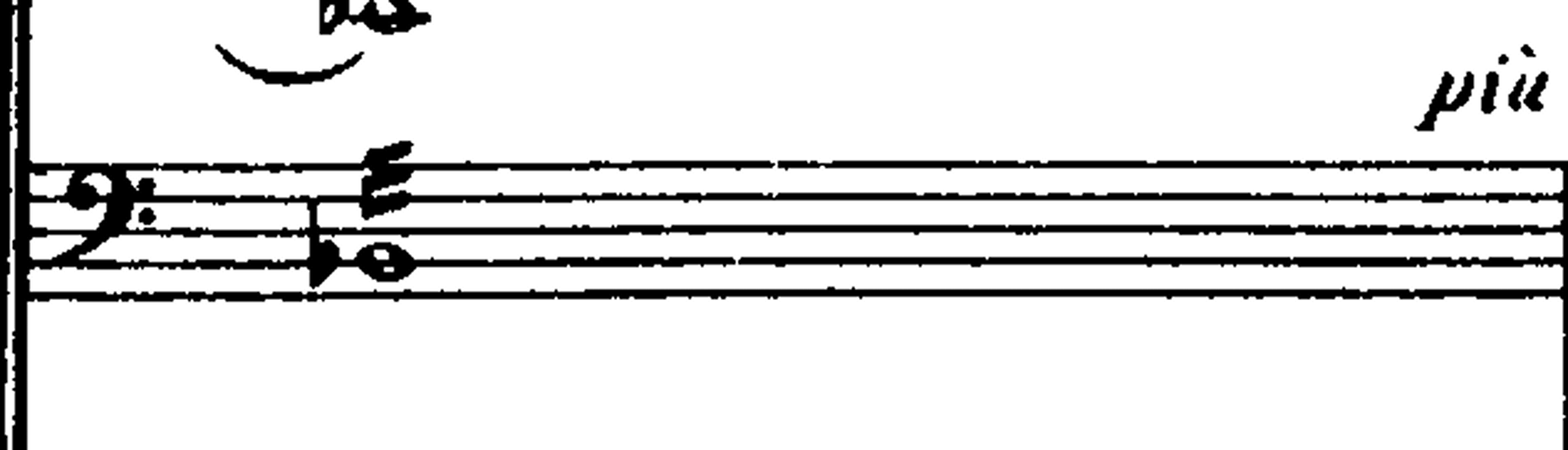augmentationDot: (138, 208, 154, 224)
clefF: (41, 149, 171, 279)
dynamicF: (1416, 71, 1454, 131)
flag8thDown: (310, 240, 339, 288)
noteheadBlackOnLine: (68, 183, 97, 210), (1521, 44, 1534, 57)
restWhole: (261, 71, 294, 84)
